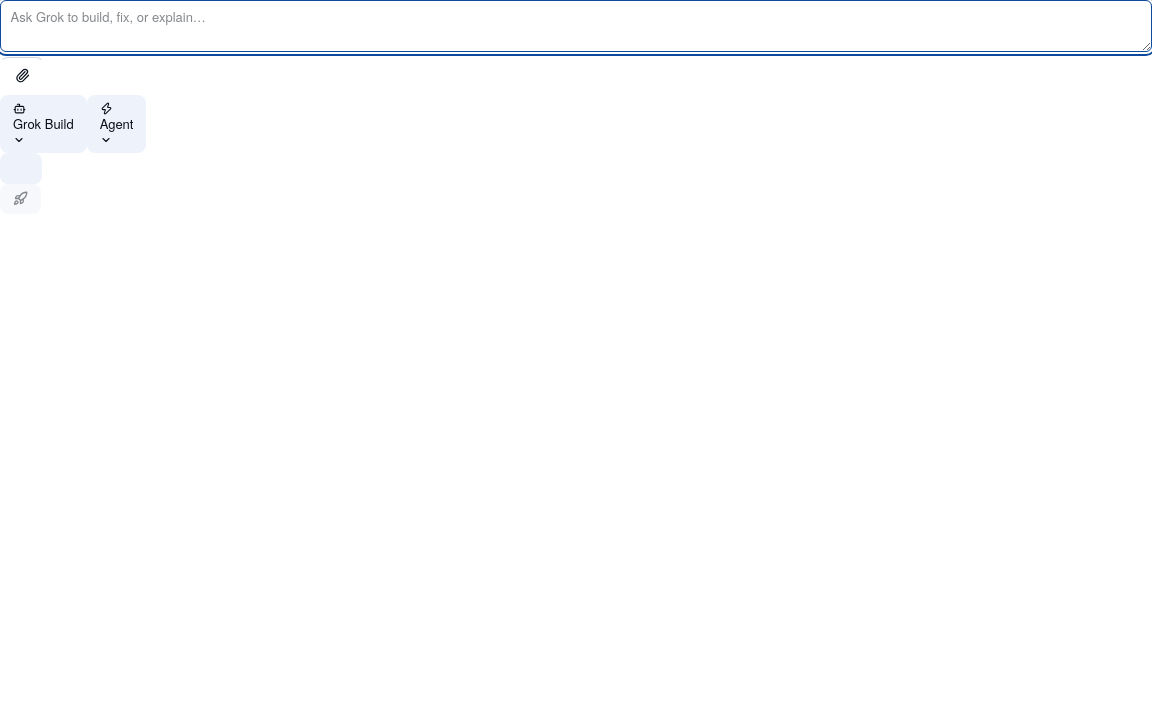
Test: CommandComposer › keeps composer focus when slash suggestions open
Step 1. Type "/plan" into the text box named "Message Grok" → [576, 26], box [0, 0, 1151, 52]
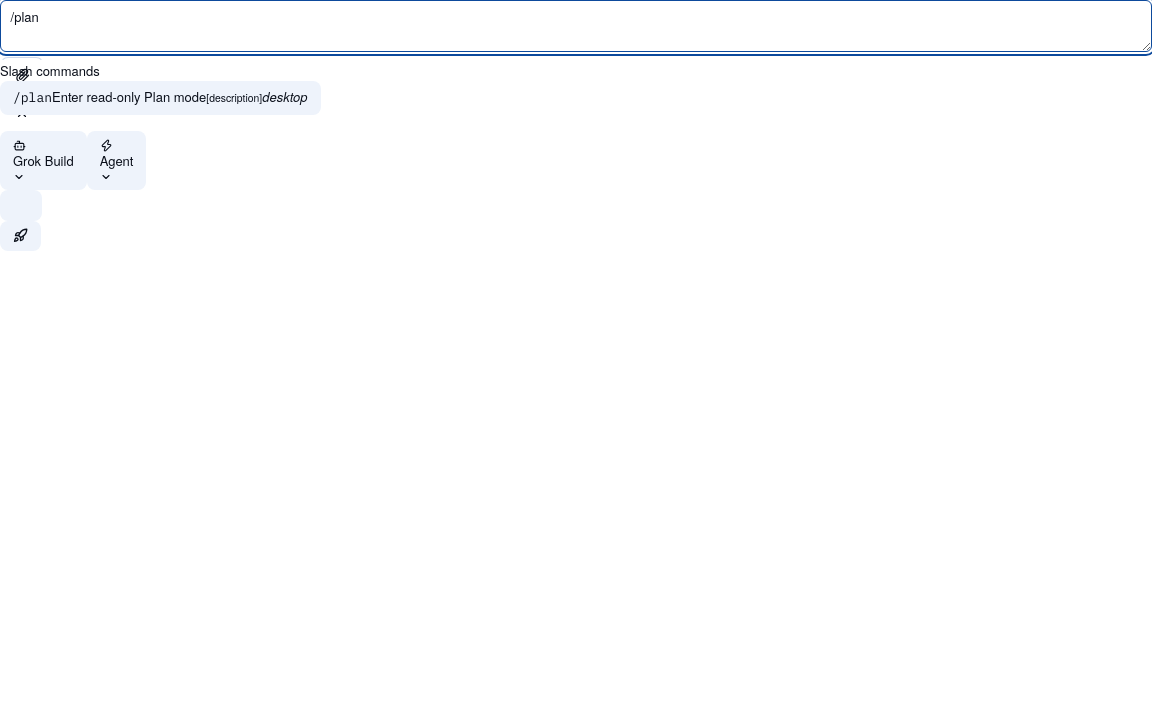
Expected: the button "/plan" is shown, [0, 81, 320, 115]
